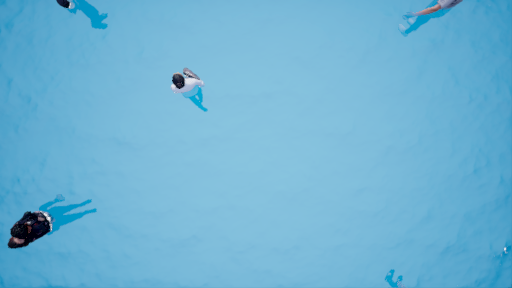person: (2, 192, 104, 248), (169, 65, 208, 111)
